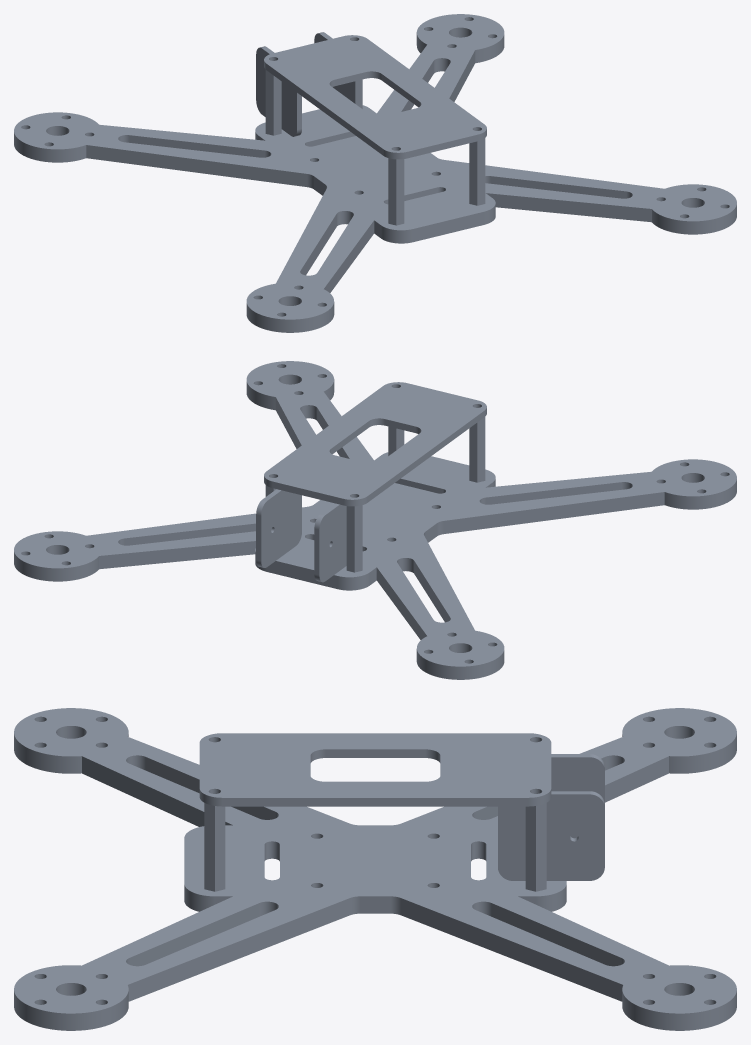
Rendered from step-6-preview-1.glb.
3 renders of one model, top to bottom at view 1: azimuth 30°, elevation 25°; view 2: azimuth 150°, elevation 25°; view 3: azimuth 270°, elevation 25°, orthographic. The views are drawn at different scales.
Visible parts, largest first — view 1: preview_4, preview_139, preview_16, preview_11, preview_154, preview_6, preview_13, preview_46, preview_60, preview_18, preview_5, preview_118 (+8 smaller); view 2: preview_4, preview_139, preview_8, preview_146, preview_27, preview_154, preview_18, preview_25, preview_35, preview_75, preview_6, preview_118 (+7 smaller); view 3: preview_4, preview_139, preview_143, preview_15, preview_23, preview_125, preview_2, preview_13, preview_25, preview_157, preview_48, preview_73 (+10 smaller).
Boxes of the visible parts, x1,y1,x2,y2 form: preview_4: (14,14,736,319); preview_139: (264,35,486,152); preview_16: (86,145,307,186); preview_11: (486,193,651,222); preview_154: (256,47,296,136); preview_6: (246,302,334,332); preview_13: (652,205,736,234); preview_46: (490,176,626,198); preview_60: (129,135,264,157); preview_18: (14,132,86,162); preview_5: (413,212,483,242); preview_118: (266,64,383,155); preview_4: (14,361,736,666); preview_139: (264,382,486,499); preview_8: (443,492,664,533); preview_146: (261,490,301,567); preview_27: (99,541,255,569); preview_154: (319,504,346,582); preview_18: (416,649,504,679); preview_25: (14,552,98,581); preview_35: (486,482,621,504); preview_75: (124,523,255,545); preview_6: (664,479,736,509); preview_118: (367,411,484,502); preview_4: (14,708,736,1013); preview_139: (199,733,551,797); preview_143: (498,794,604,880); preview_15: (128,898,349,1001); preview_23: (401,898,622,1001); preview_125: (222,798,528,806); preview_2: (82,756,232,826); preview_13: (14,991,128,1030); preview_25: (622,991,736,1030); preview_157: (551,757,604,838); preview_48: (129,903,259,966); preview_73: (491,903,621,966).
Bounding box in the file's own units: 0.1891 × 0.0325 × 0.1891.
